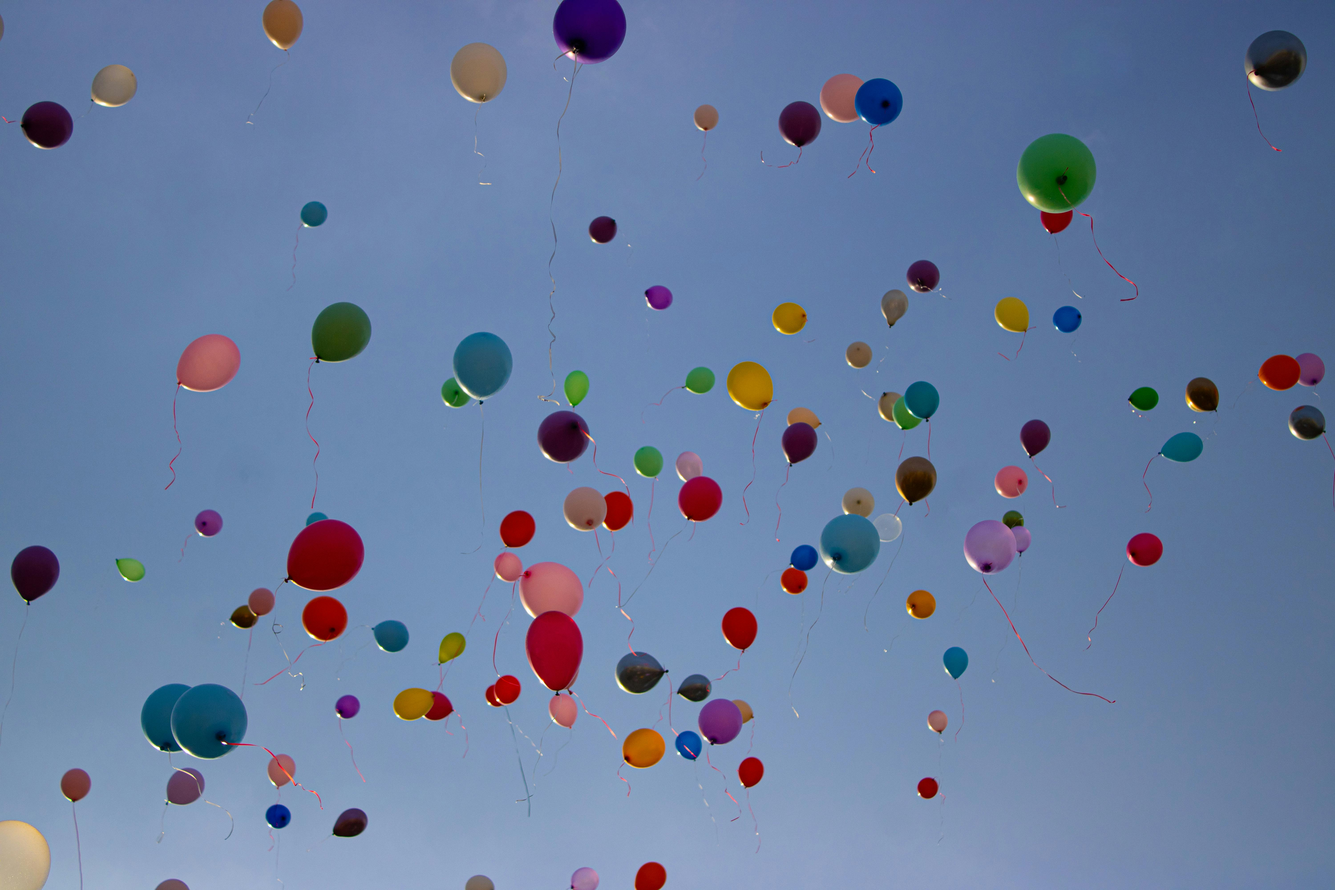balloon: (526, 568, 583, 691), (1017, 134, 1096, 212), (171, 684, 248, 759), (287, 520, 364, 591), (553, 0, 626, 63), (453, 332, 512, 400), (1245, 30, 1307, 90), (177, 334, 240, 392), (820, 514, 880, 574), (312, 302, 371, 362), (520, 562, 583, 618), (0, 820, 50, 890), (450, 43, 507, 103), (141, 683, 189, 752), (964, 520, 1016, 574), (537, 411, 589, 463), (21, 101, 73, 149), (854, 78, 902, 126), (727, 362, 773, 411), (820, 74, 863, 123), (262, 0, 303, 51), (615, 652, 664, 694), (302, 596, 347, 641), (678, 476, 722, 522), (698, 699, 742, 744), (91, 64, 137, 107), (779, 101, 821, 148), (564, 487, 606, 531), (622, 728, 665, 768), (722, 607, 757, 653), (1258, 355, 1300, 391), (782, 423, 817, 466), (166, 768, 205, 805), (500, 510, 535, 548), (904, 381, 939, 419), (1288, 405, 1325, 440), (1160, 432, 1203, 462), (393, 688, 433, 720), (603, 491, 633, 532), (995, 297, 1029, 333), (1127, 533, 1163, 566), (1185, 377, 1219, 411), (373, 620, 409, 652), (1020, 420, 1051, 457), (772, 302, 807, 334), (906, 260, 939, 293), (548, 692, 578, 728), (995, 466, 1028, 498), (332, 808, 368, 837), (881, 289, 908, 327), (61, 768, 91, 802), (842, 487, 874, 518), (267, 754, 295, 789), (1296, 353, 1325, 386), (494, 550, 523, 583), (634, 446, 663, 478), (564, 370, 589, 407), (438, 632, 466, 665), (678, 674, 711, 702), (441, 377, 470, 408), (893, 398, 921, 430), (906, 590, 936, 619), (635, 862, 666, 890), (873, 513, 902, 542), (684, 367, 715, 394), (1053, 305, 1082, 333), (494, 675, 521, 705), (738, 757, 764, 788), (943, 647, 968, 679), (1040, 210, 1073, 234), (588, 216, 616, 244), (195, 509, 223, 537), (675, 731, 702, 760), (790, 544, 819, 571), (676, 451, 702, 481), (248, 588, 275, 616), (426, 692, 453, 720), (781, 566, 808, 594), (845, 342, 872, 369), (115, 558, 145, 582), (301, 201, 328, 227), (1129, 387, 1158, 411), (787, 407, 820, 428), (265, 803, 291, 829), (645, 285, 672, 310), (694, 104, 718, 132), (570, 867, 599, 890), (878, 392, 900, 422), (231, 605, 257, 629), (335, 695, 360, 719), (1011, 526, 1031, 554), (927, 710, 948, 734), (917, 777, 939, 799), (733, 699, 753, 723), (465, 875, 494, 890), (485, 684, 503, 707), (155, 878, 188, 890), (1001, 510, 1024, 527), (305, 512, 327, 527)
